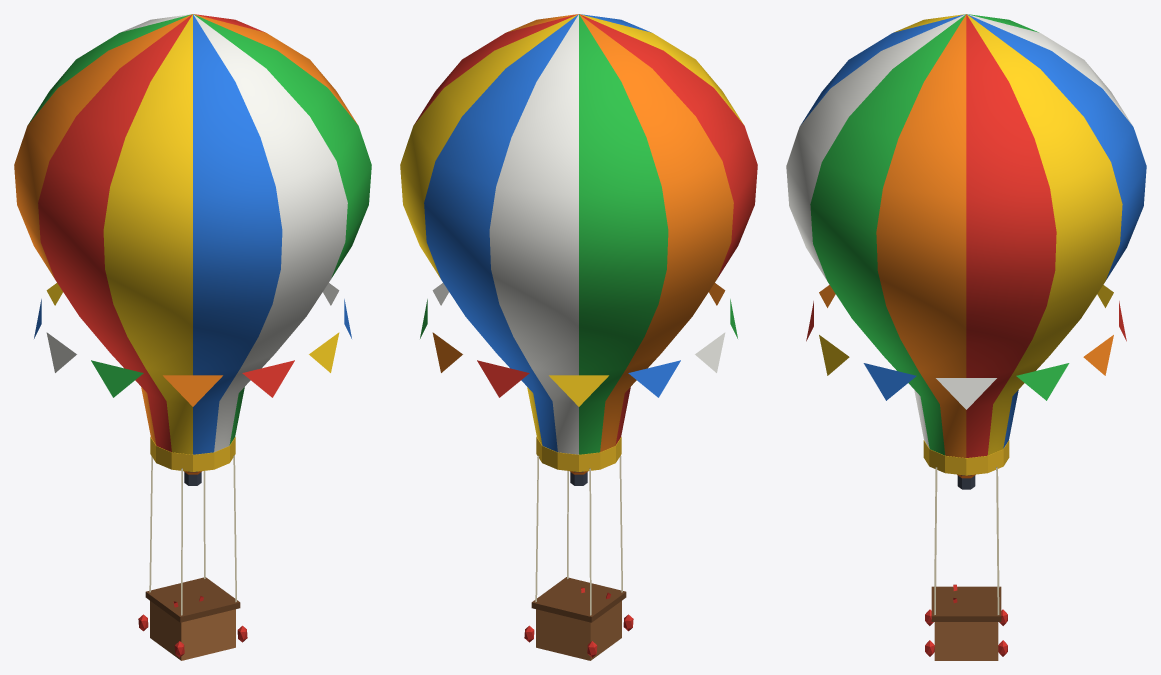
Rendered from balloon.glb.
The picture shows the model from 3 angles, left to right: view 1: azimuth 30°, elevation 25°; view 2: azimuth 150°, elevation 25°; view 3: azimuth 270°, elevation 25°; orthographic projection.
Parts seen in each view (by area): view 1: balloon; view 2: balloon; view 3: balloon.
Boxes of the visible parts, x1,y1,x2,y2 form: balloon: (14,14,371,660); balloon: (400,14,757,660); balloon: (786,14,1146,660).
Size of the model in its own units: 11.34 by 22 by 11.34.
Materials: 2 (2 with a texture image).
